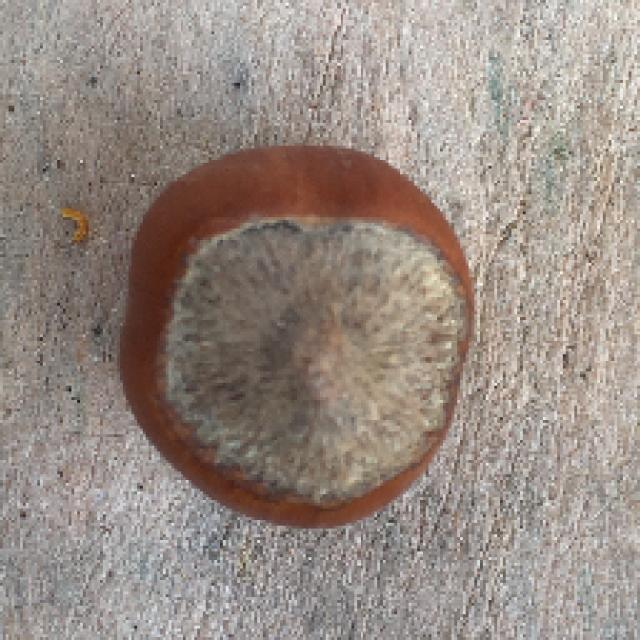qualityHazelnut: (111, 142, 482, 534)
